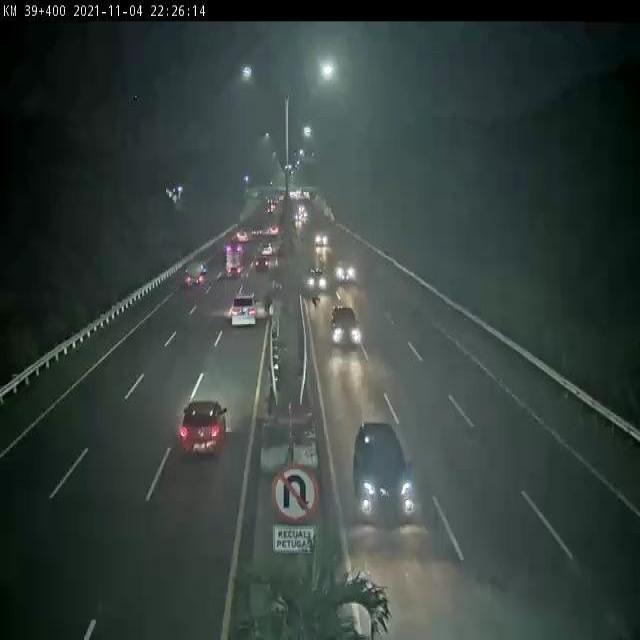car: (352, 429, 424, 523), (181, 393, 226, 455), (331, 308, 369, 364), (335, 258, 362, 294), (231, 296, 256, 328), (305, 262, 329, 294), (253, 256, 267, 273), (316, 231, 328, 249)
truck-l-: (187, 263, 210, 289)
truck-m-: (221, 245, 246, 278)
